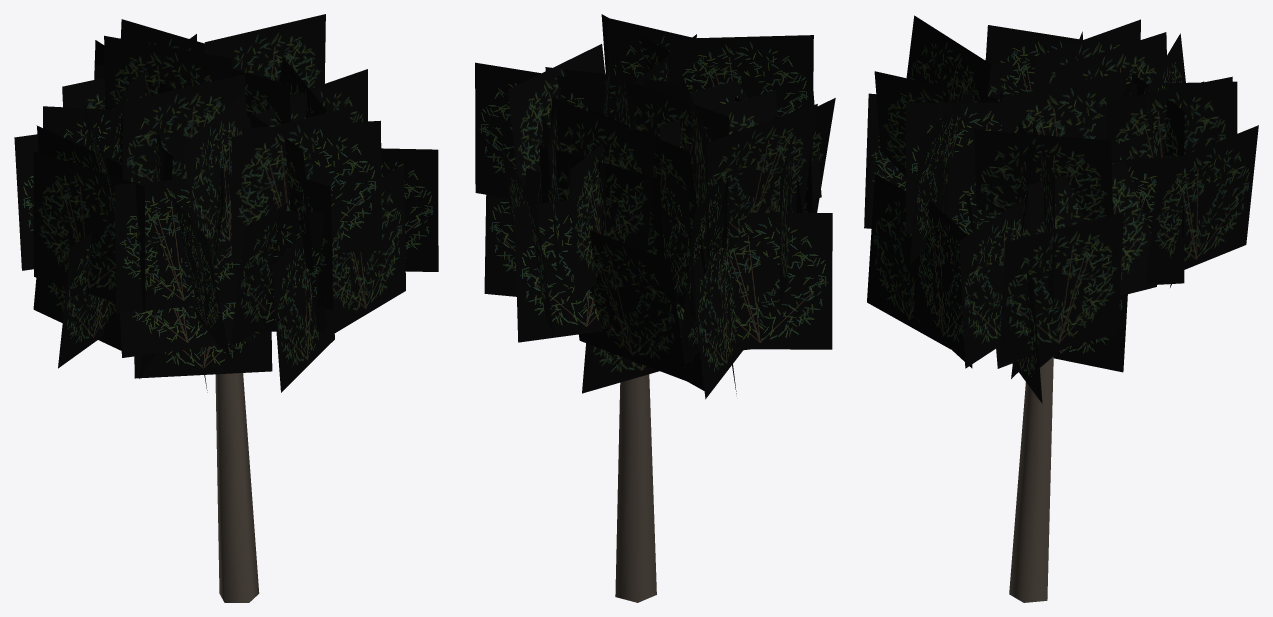
The model's file is tpl_bog_pine.glb.
3 views of the same model, side by side, from view 1: azimuth 30°, elevation 25°; view 2: azimuth 150°, elevation 25°; view 3: azimuth 270°, elevation 25° (orthographic). The views are drawn at different scales.
Parts seen in each view (by area): view 1: tpl_bog_pine; view 2: tpl_bog_pine; view 3: tpl_bog_pine.
Part boxes in pixels (left/top/right/bottom): tpl_bog_pine: left=14, top=14, right=438, bottom=602; tpl_bog_pine: left=475, top=14, right=835, bottom=602; tpl_bog_pine: left=864, top=15, right=1258, bottom=602.
Size of the model in its own units: 2.94 by 4.2 by 2.83.
Materials: 2 (1 with a texture image).
